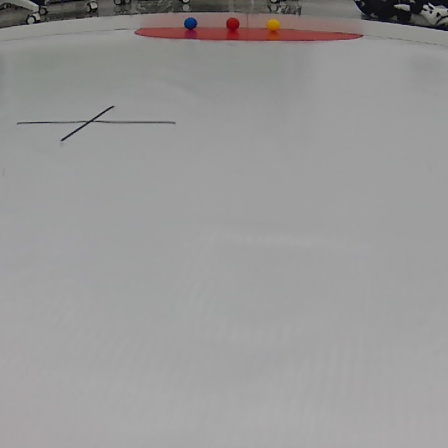blue: (184, 15, 198, 30)
red: (225, 14, 241, 30)
red_base: (133, 21, 364, 44)
yellow: (265, 19, 283, 31)
